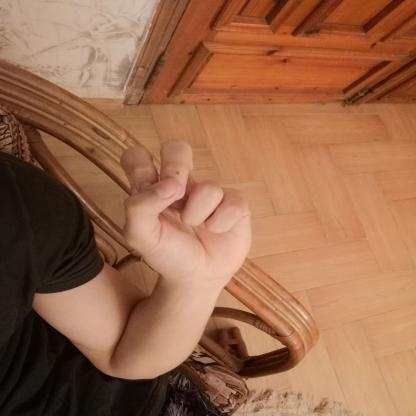QAAF: (99, 130, 270, 296)
